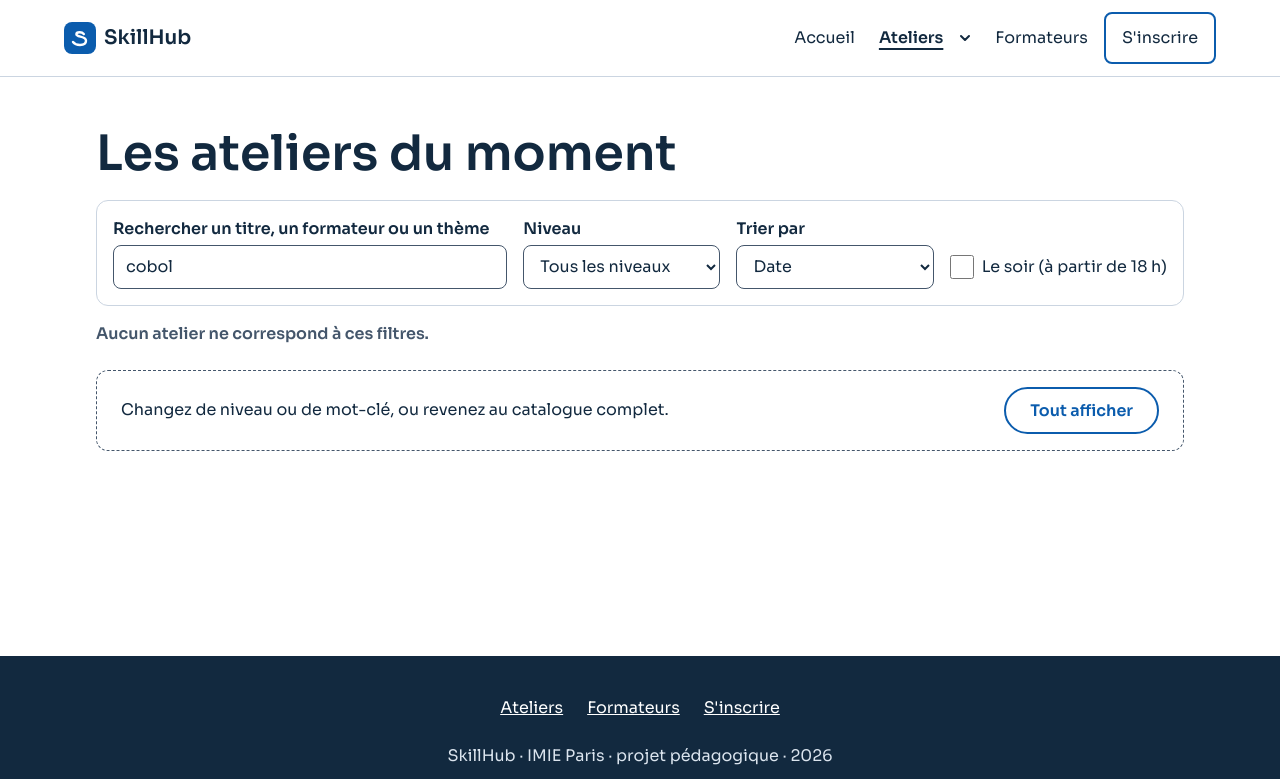
Scenario: Catalogue : les quatre états › vide : une phrase polie, et « Tout afficher » remet tout et renvoie le focus à la recherche
Expected: the text "Aucun atelier ne correspond à ces filtres." is shown, [96,323,429,344]
Click the button "Tout afficher": (1082, 410) [1004,387,1159,434]
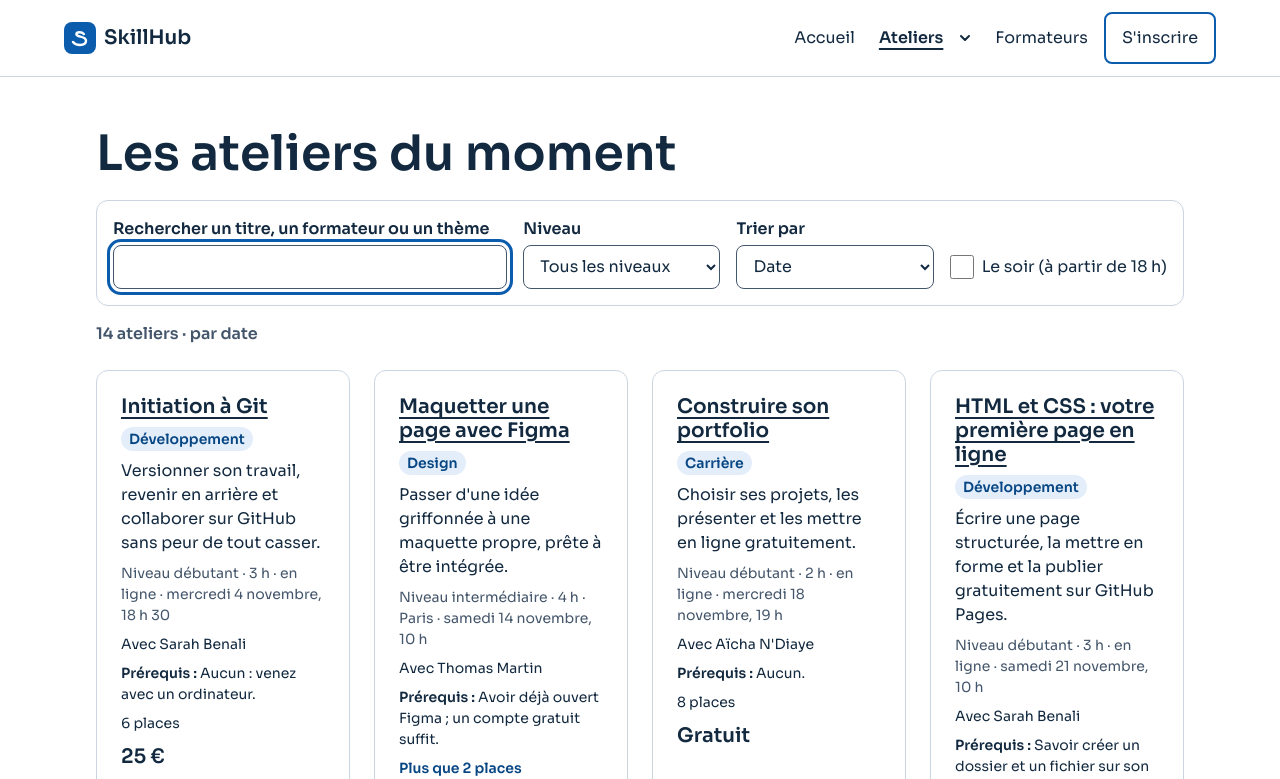
Result: the text "14 ateliers · par date" is shown at [96,323,258,344]
